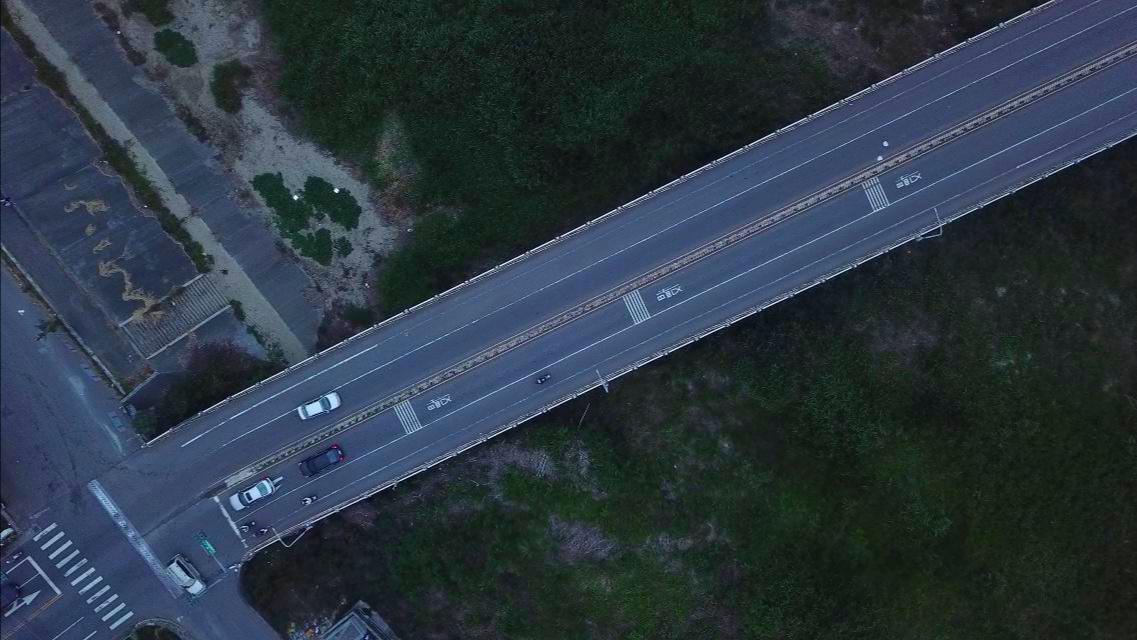vehicle: (167, 554, 205, 598), (297, 444, 344, 478), (228, 478, 274, 512), (295, 392, 341, 421)
